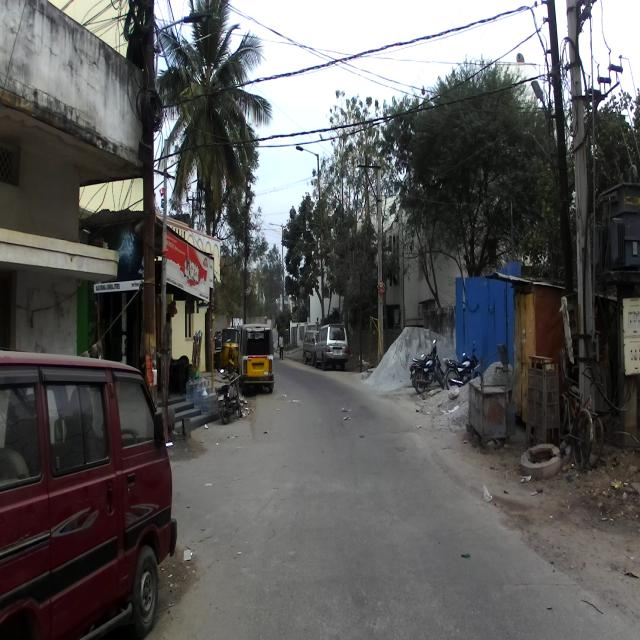car ahead at: (0, 340, 176, 634)
electric pole ahead at: (118, 0, 166, 383)
